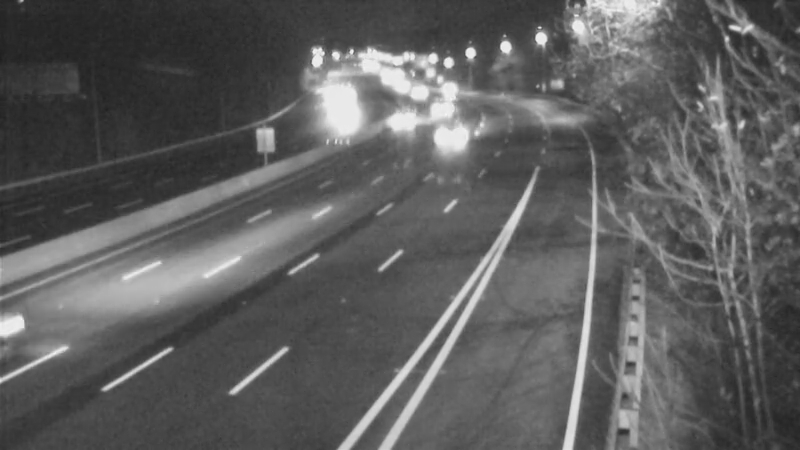vehicle: (380, 65, 430, 115), (389, 69, 439, 119), (415, 86, 465, 136), (427, 61, 477, 111), (422, 113, 472, 163), (386, 93, 436, 143), (306, 96, 356, 146)
